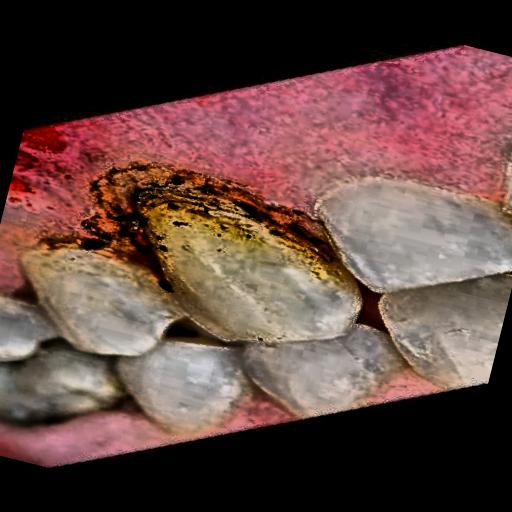Calculus: (39, 134, 396, 360)
